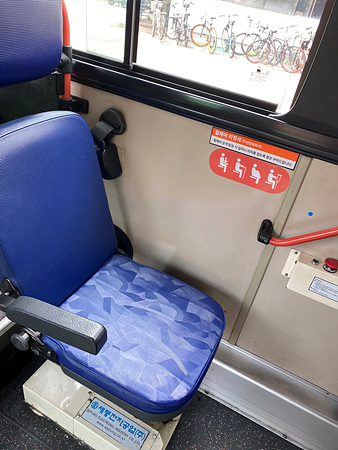seat: (3, 110, 226, 413)
